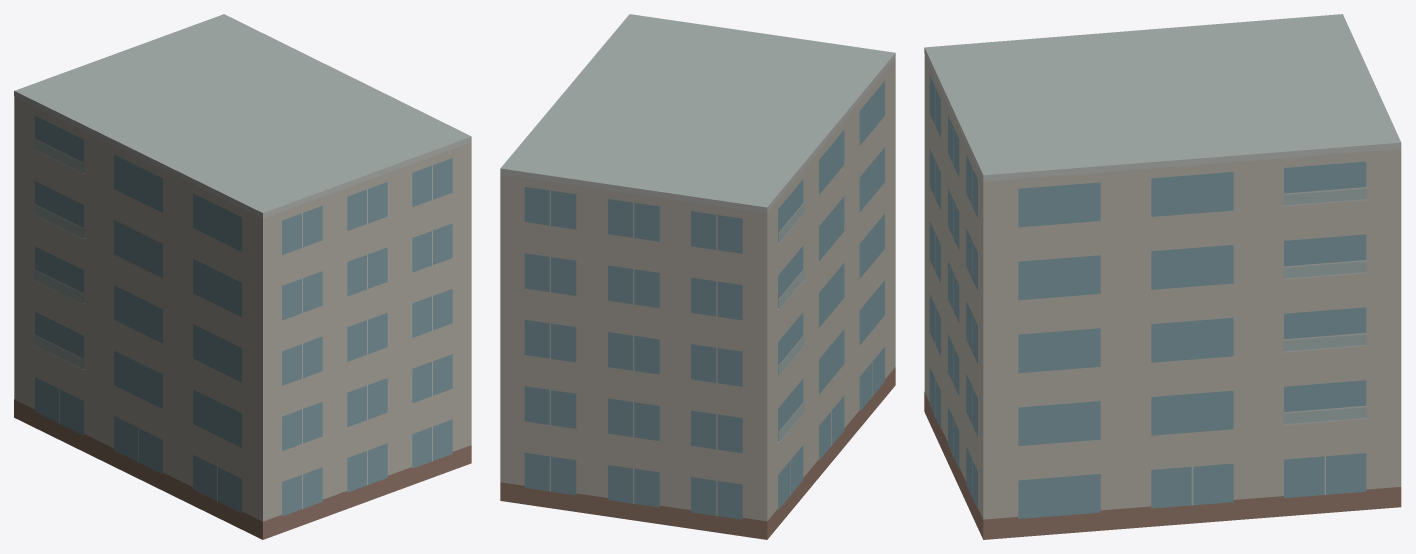
File: survey-upis-32708949.glb
3 views of the same model, side by side, from view 1: azimuth 30°, elevation 25°; view 2: azimuth 150°, elevation 25°; view 3: azimuth 270°, elevation 25° (orthographic). The views are drawn at different scales.
Visible parts, largest first — view 1: survey-upis-32708949.tmp; view 2: survey-upis-32708949.tmp; view 3: survey-upis-32708949.tmp.
Boxes of the visible parts, x1,y1,x2,y2 form: survey-upis-32708949.tmp: (14,14,471,539); survey-upis-32708949.tmp: (500,14,895,539); survey-upis-32708949.tmp: (924,14,1401,539).
Bounding box in the file's own units: 13.49 × 14.2 × 16.85.
